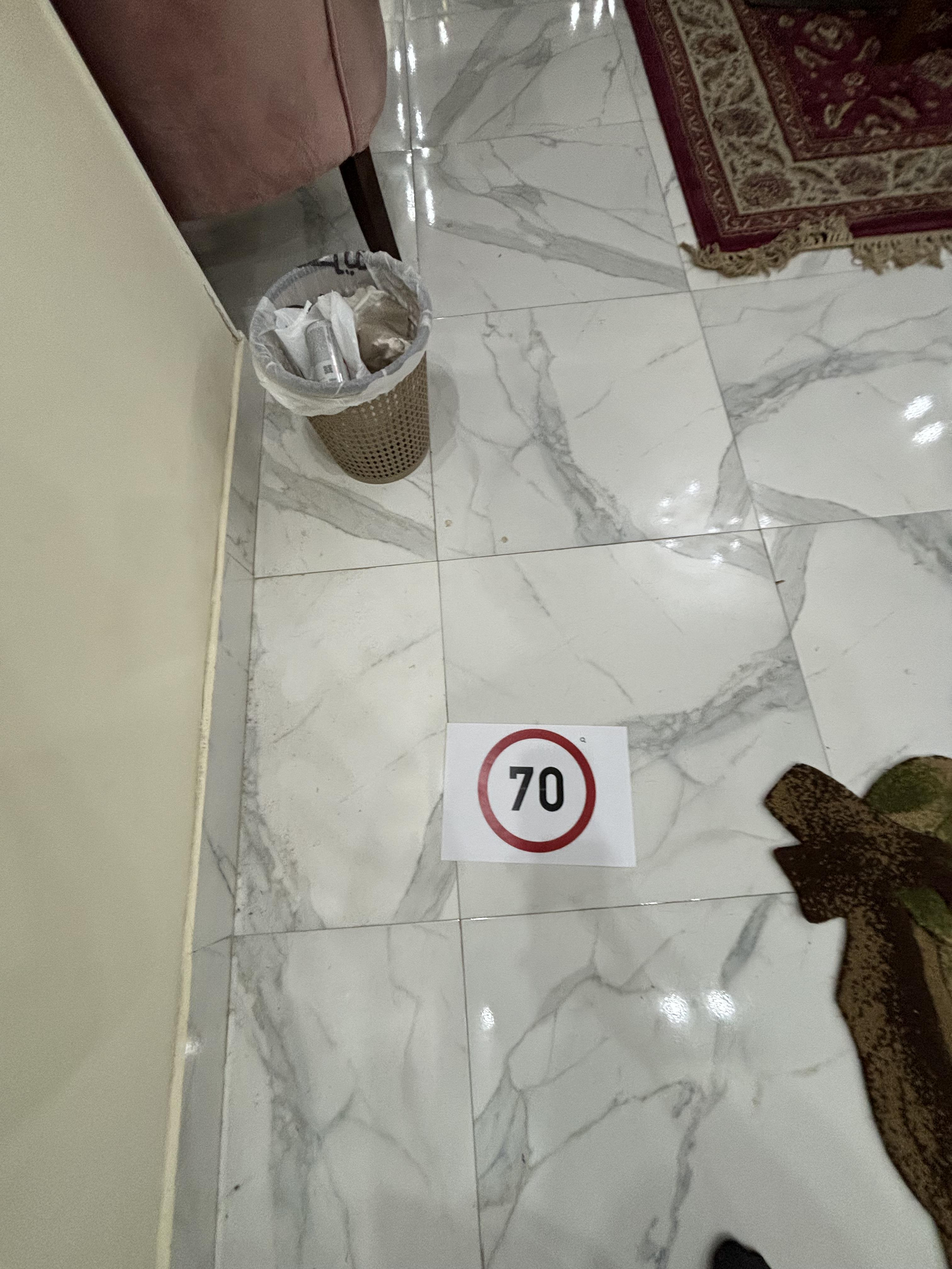70-Speed: (470, 721, 611, 860)
